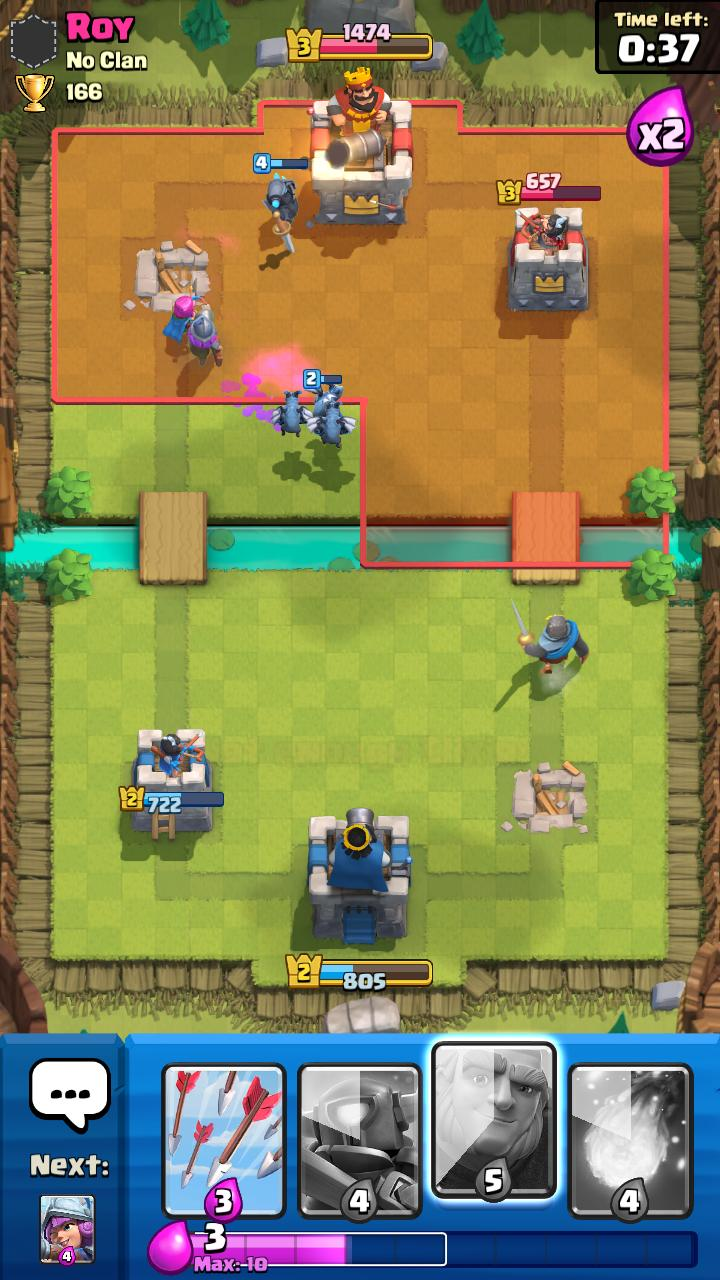ally: (511, 599, 590, 674), (253, 153, 308, 224), (162, 286, 207, 343), (307, 401, 358, 448), (188, 305, 223, 367), (303, 369, 344, 417), (271, 391, 313, 437)
